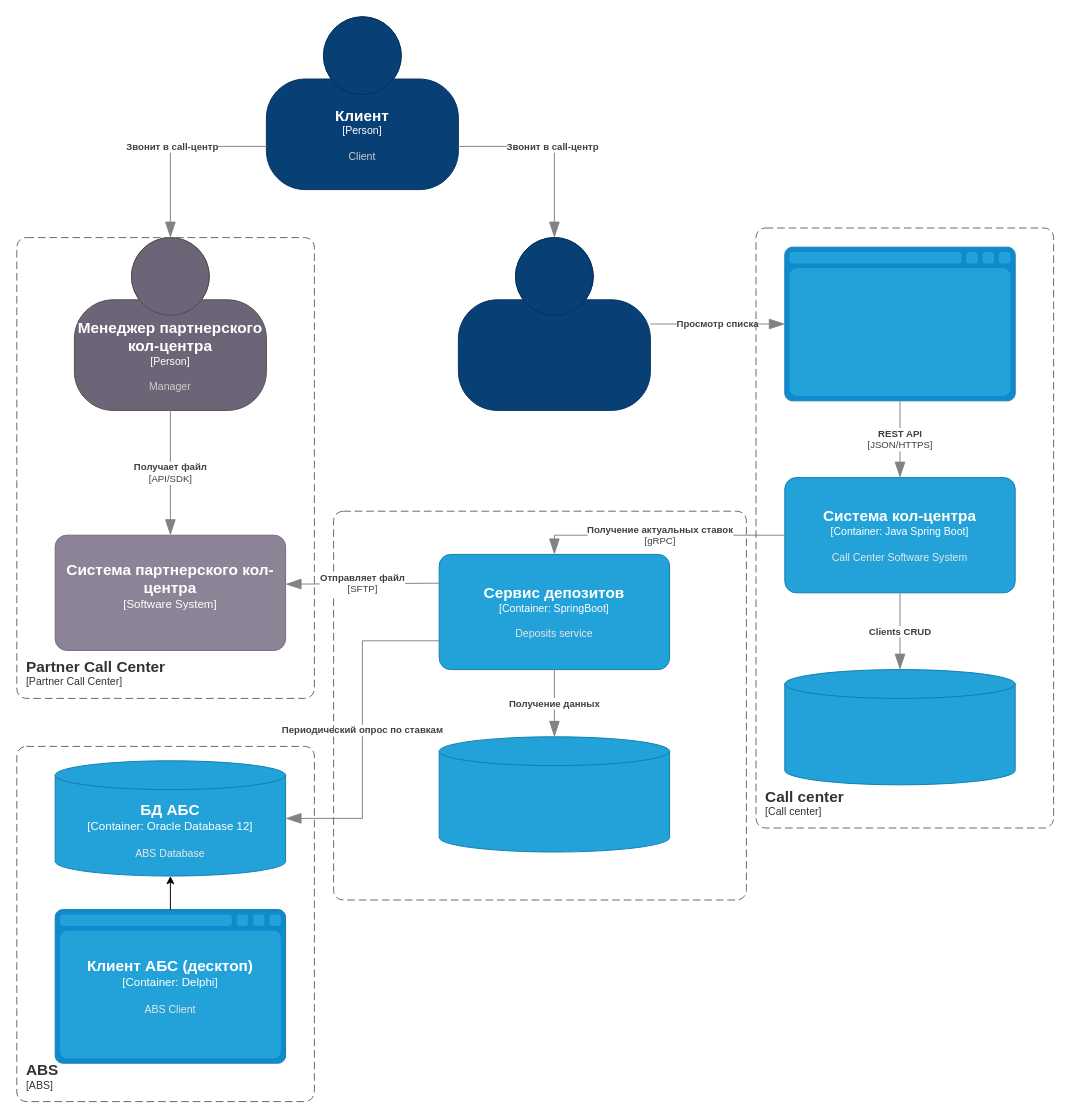
This 1070x1118 diagram has some shape labels left out. Here are the shapes that lost their labels. From the top down, the box of each, then its label:
(457, 237, 650, 410): Менеджер кол-центра [Person] Manager
(784, 246, 1015, 401): Веб-интерфейс [Container: React.js] Веб-интерфейс
(333, 510, 746, 900): Deposits [Deposits]
(784, 669, 1015, 785): БД кол-центра [Container: PostgreSQL] Call Center DB
(438, 736, 670, 852): БД сервиса депозитов [Container: MS SQL]
